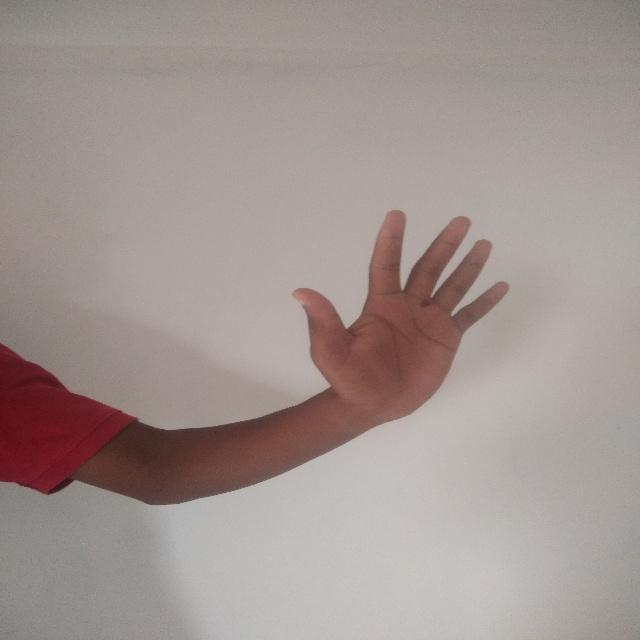Moutza: (286, 205, 516, 435)
